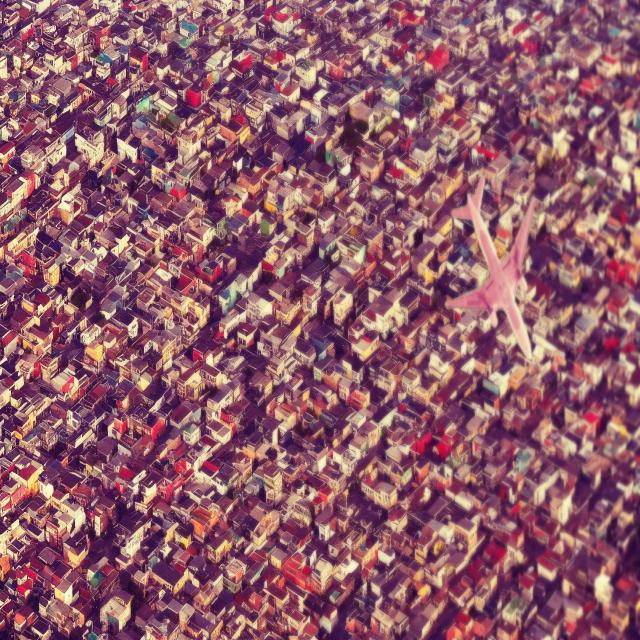airplane: (445, 175, 537, 361)
